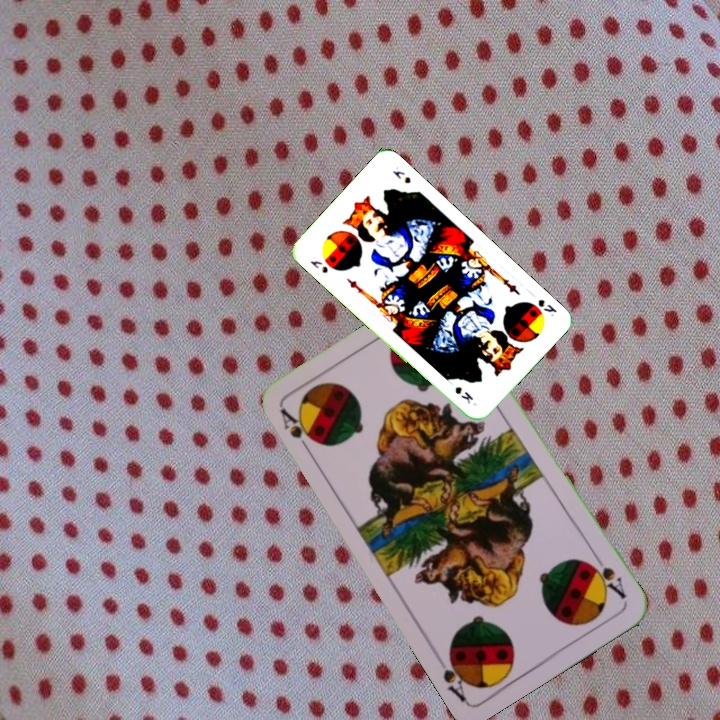SA: (276, 404, 324, 458), (584, 551, 629, 602)
SK: (534, 295, 560, 319), (306, 256, 330, 276)
